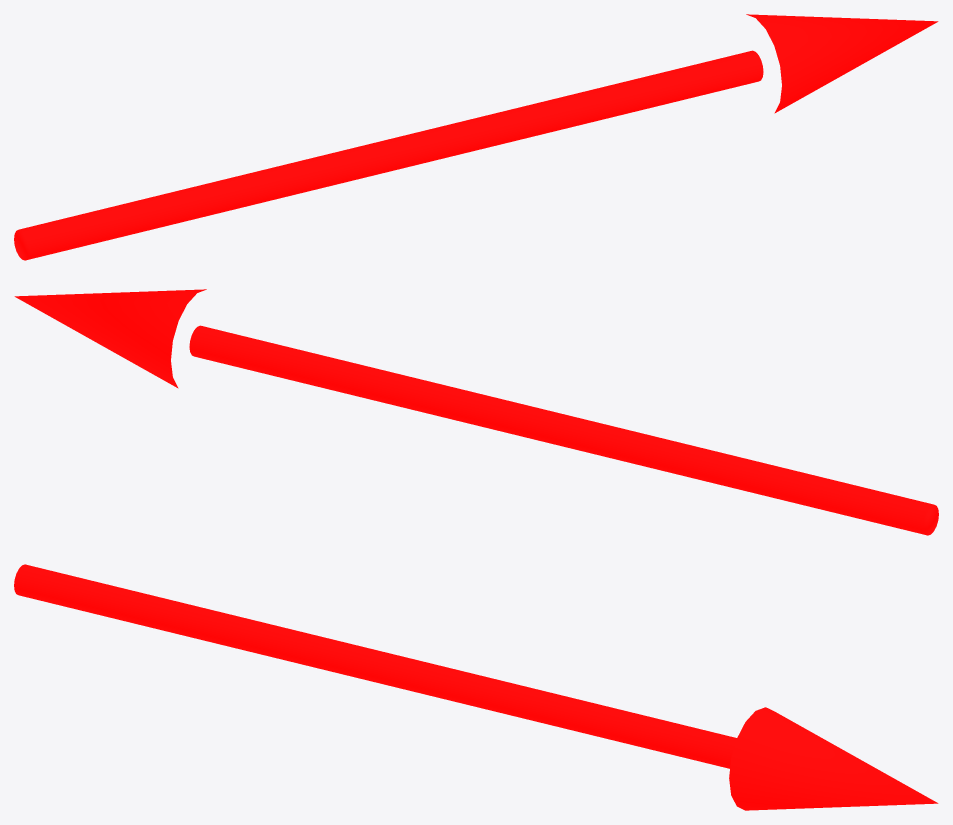
The model's file is arrowX.gltf.
3 renders of one model, top to bottom at view 1: azimuth 30°, elevation 25°; view 2: azimuth 150°, elevation 25°; view 3: azimuth 330°, elevation 25°, orthographic.
Visible parts, largest first — view 1: axis_X; view 2: axis_X; view 3: axis_X.
Part boxes in pixels (x1,y1,x2,y2): axis_X: [14, 14, 938, 260]; axis_X: [14, 289, 938, 535]; axis_X: [14, 564, 938, 810].
Size of the model in its own units: 1 by 0.1 by 0.1.
